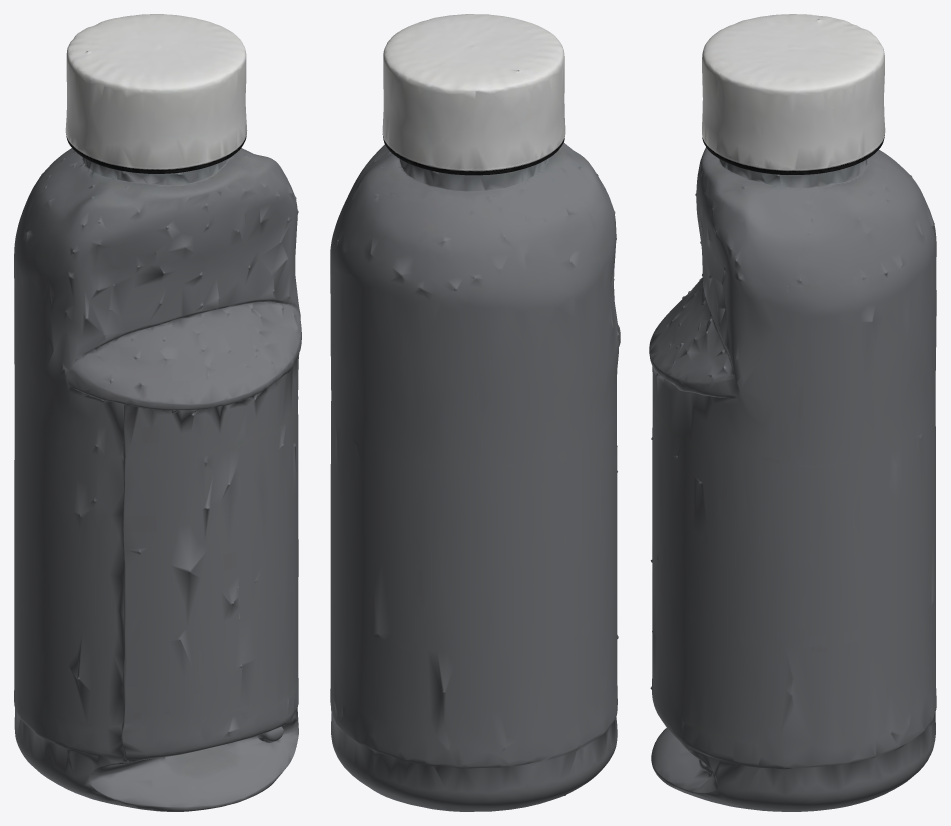
3 renders of one model, left to right at view 1: azimuth 30°, elevation 25°; view 2: azimuth 150°, elevation 25°; view 3: azimuth 270°, elevation 25°, orthographic.
Parts seen in each view (by area): view 1: tripo_node_f394b76f-eae1-483e-834e-7fb51a9d7c20; view 2: tripo_node_f394b76f-eae1-483e-834e-7fb51a9d7c20; view 3: tripo_node_f394b76f-eae1-483e-834e-7fb51a9d7c20.
Boxes of the visible parts, <box> form: tripo_node_f394b76f-eae1-483e-834e-7fb51a9d7c20: <box>14,14,301,811</box>; tripo_node_f394b76f-eae1-483e-834e-7fb51a9d7c20: <box>330,14,620,811</box>; tripo_node_f394b76f-eae1-483e-834e-7fb51a9d7c20: <box>649,14,936,811</box>.
Size of the model in its own units: 0.3657 by 1 by 0.3643.
1 material, 1 textured.
